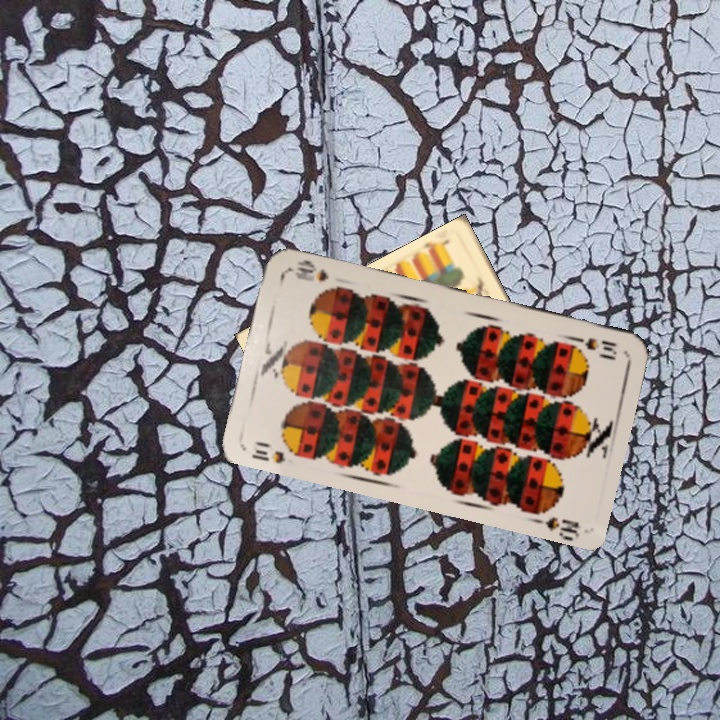E10: (418, 235, 452, 254)
S10: (568, 332, 620, 359), (247, 445, 288, 466)
